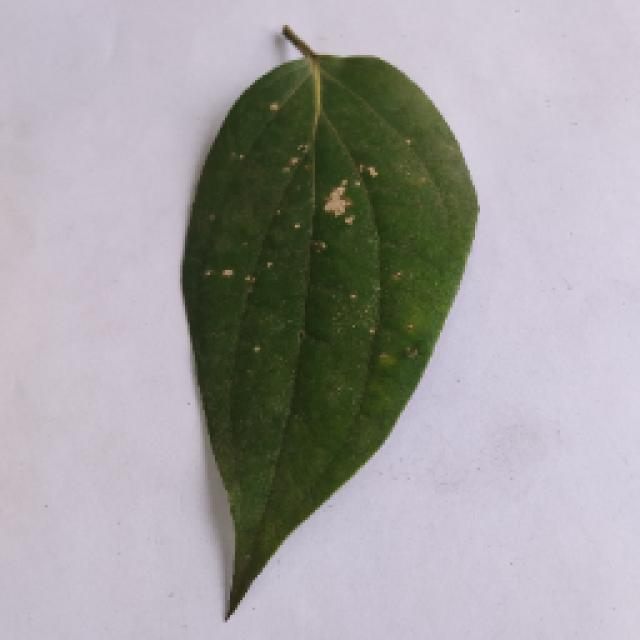pollu-disease: (168, 30, 490, 615)
